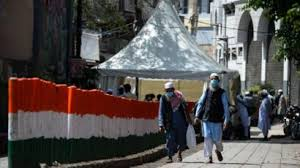mask: (163, 84, 175, 99), (207, 73, 219, 88), (257, 89, 268, 99), (235, 92, 245, 102), (122, 83, 132, 93)
